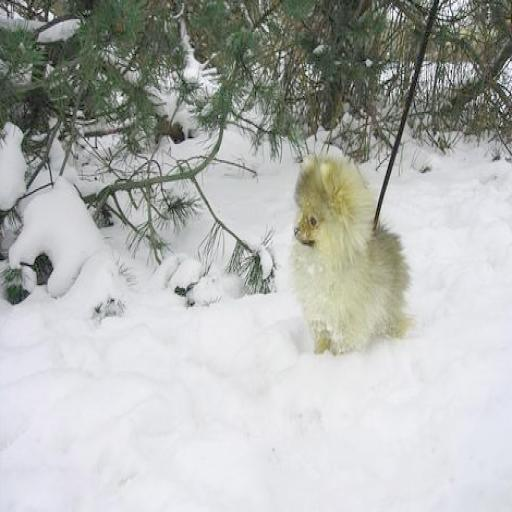dog_face: (284, 156, 365, 263)
